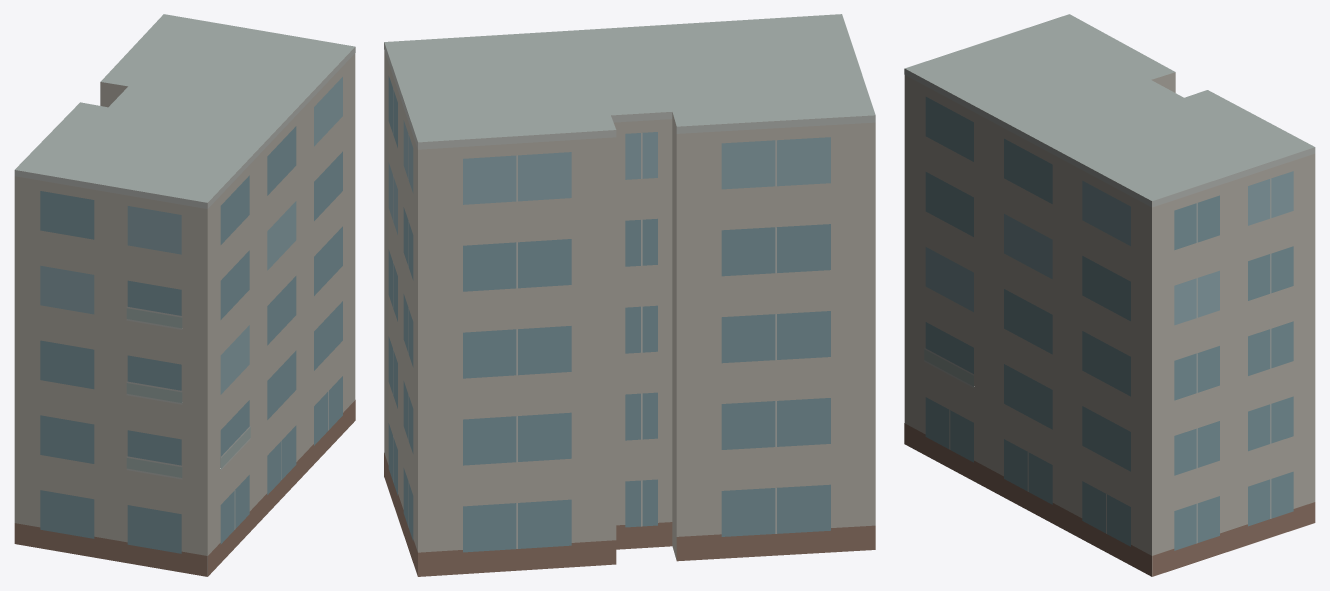
File: survey-upis-32899943.glb
3 views of the same model, side by side, from view 1: azimuth 30°, elevation 25°; view 2: azimuth 150°, elevation 25°; view 3: azimuth 270°, elevation 25° (orthographic). The views are drawn at different scales.
Visible parts, largest first — view 1: survey-upis-32899943.tmp; view 2: survey-upis-32899943.tmp; view 3: survey-upis-32899943.tmp.
Boxes of the visible parts, x1=… form: survey-upis-32899943.tmp: x1=14, y1=14, x2=355, y2=576; survey-upis-32899943.tmp: x1=384, y1=14, x2=875, y2=576; survey-upis-32899943.tmp: x1=904, y1=14, x2=1315, y2=576.
Size of the model in its own units: 15.51 by 14.5 by 14.38.
